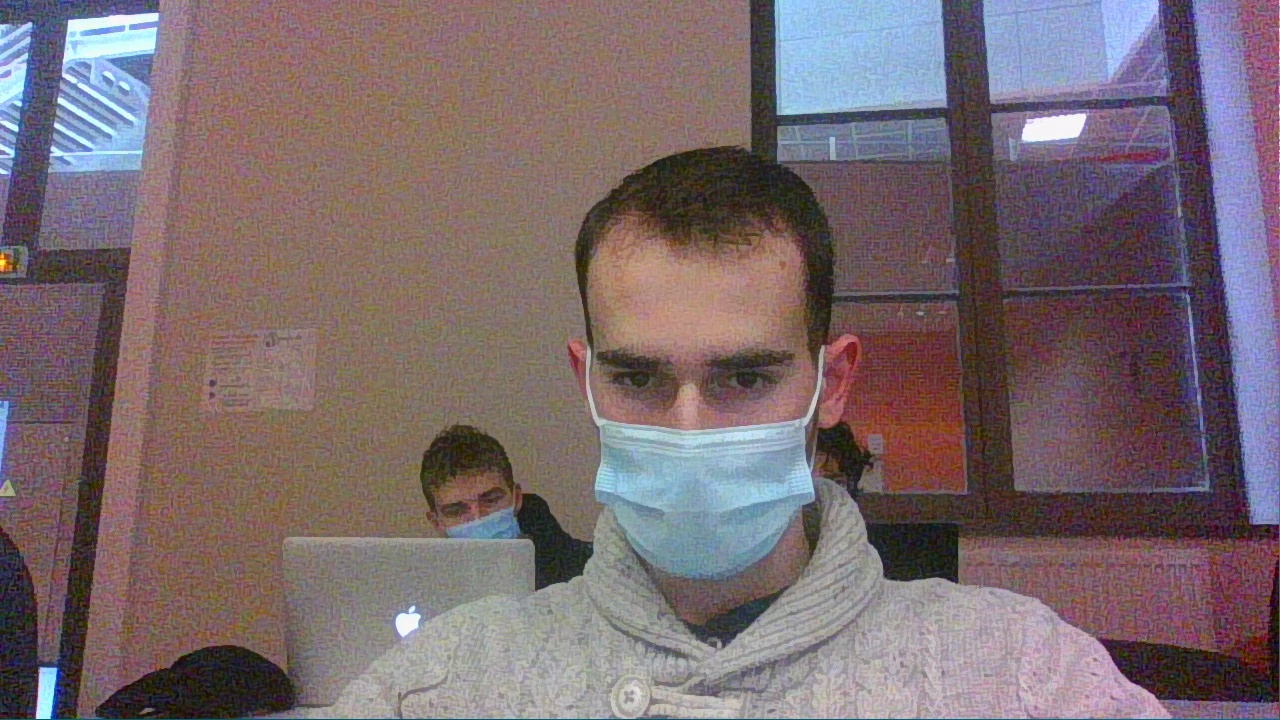mask: (562, 145, 860, 565), (418, 424, 523, 551)
